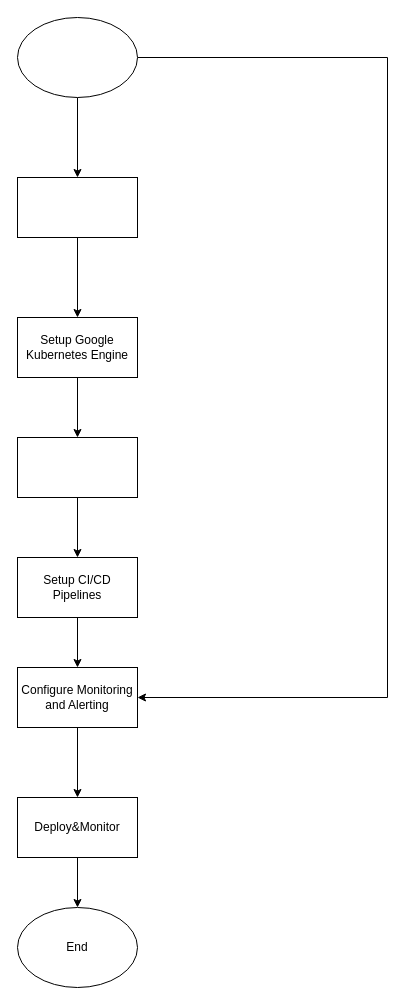
This 413x1005 diagram has some shape labels left out. The shapes that lost their labels are listed below. From the top down, each one's centre as x and y in pixels, then its label:
[77,57]: Start
[77,207]: Terraform Setup
[77,467]: Configure Docker
